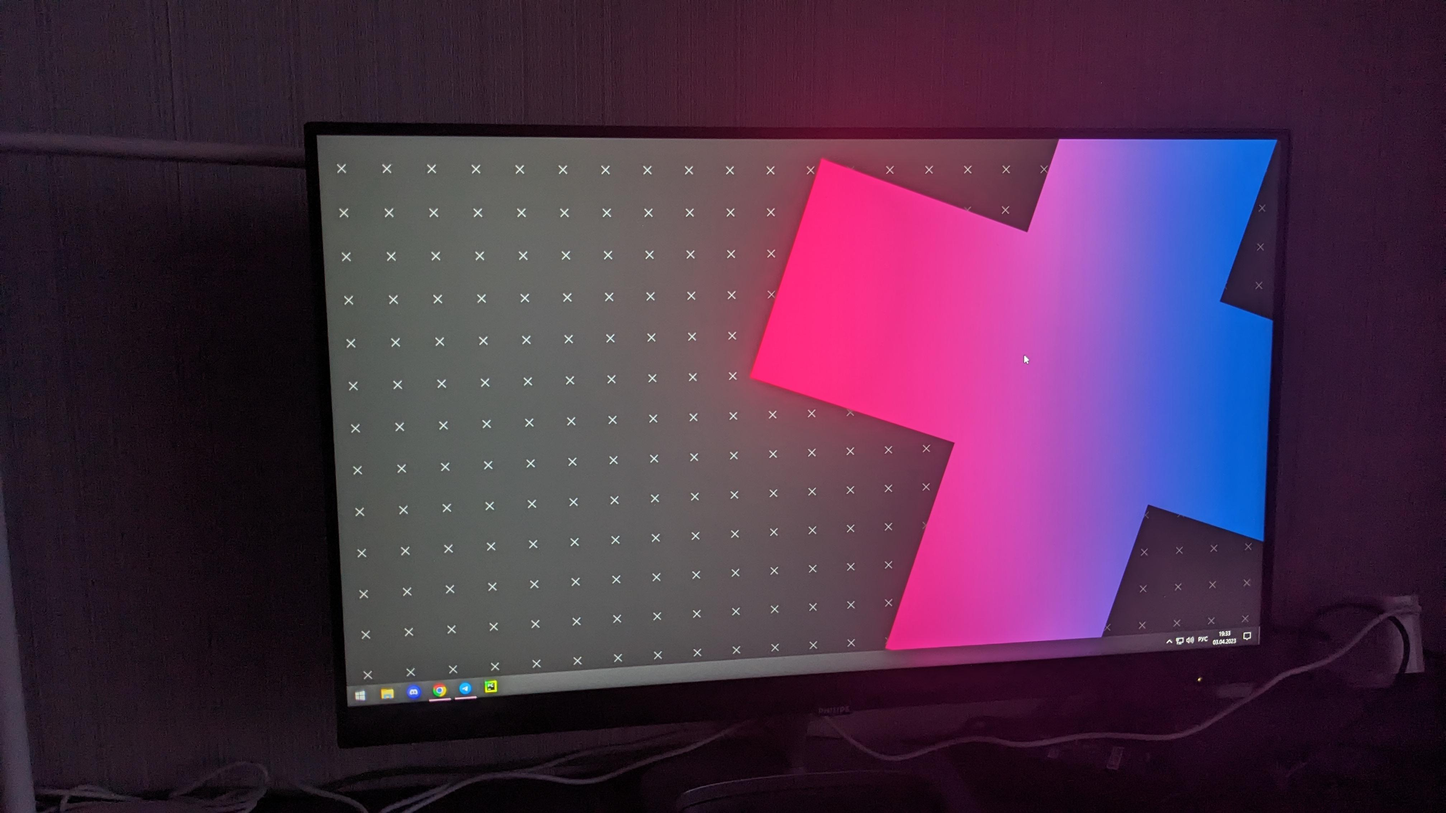monitor: (294, 109, 1295, 758)
